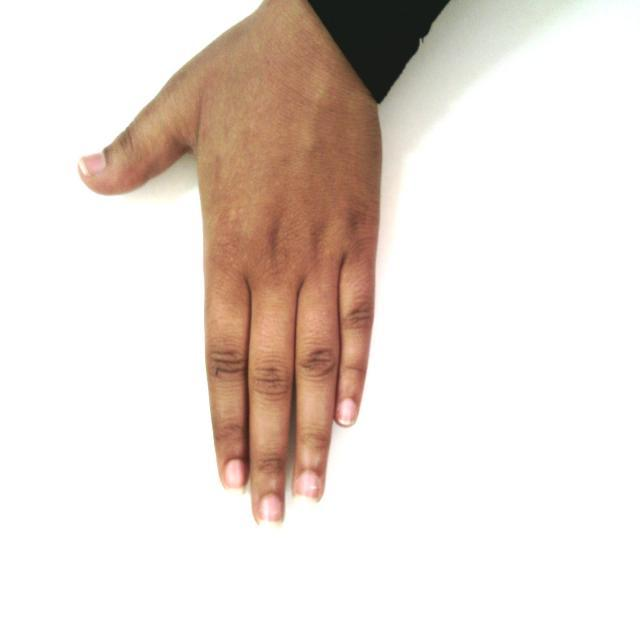Fingernail: (260, 494, 283, 530), (297, 472, 321, 505), (225, 460, 245, 490), (80, 153, 106, 176), (339, 399, 357, 425)
